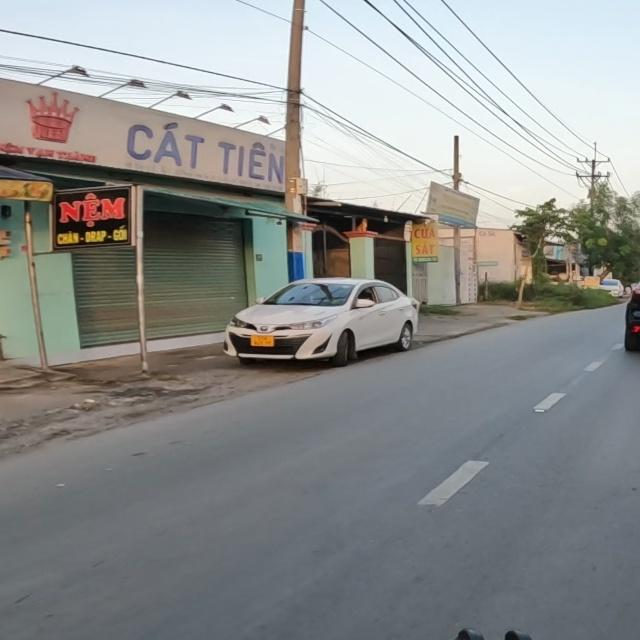license-plate: (250, 334, 275, 348)
